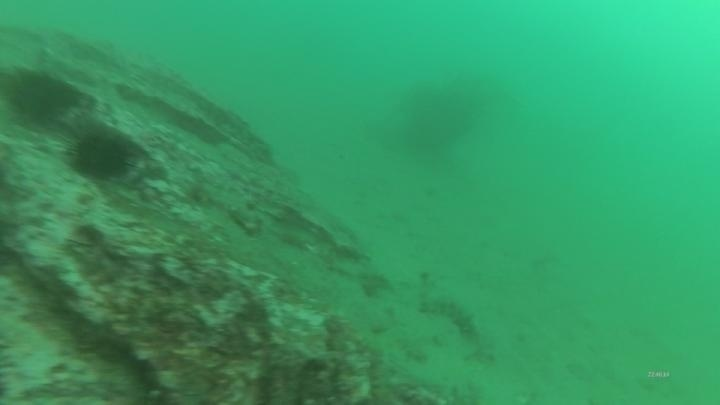echinus: (3, 65, 79, 129), (63, 124, 136, 185)
holothurian: (420, 292, 482, 342)
